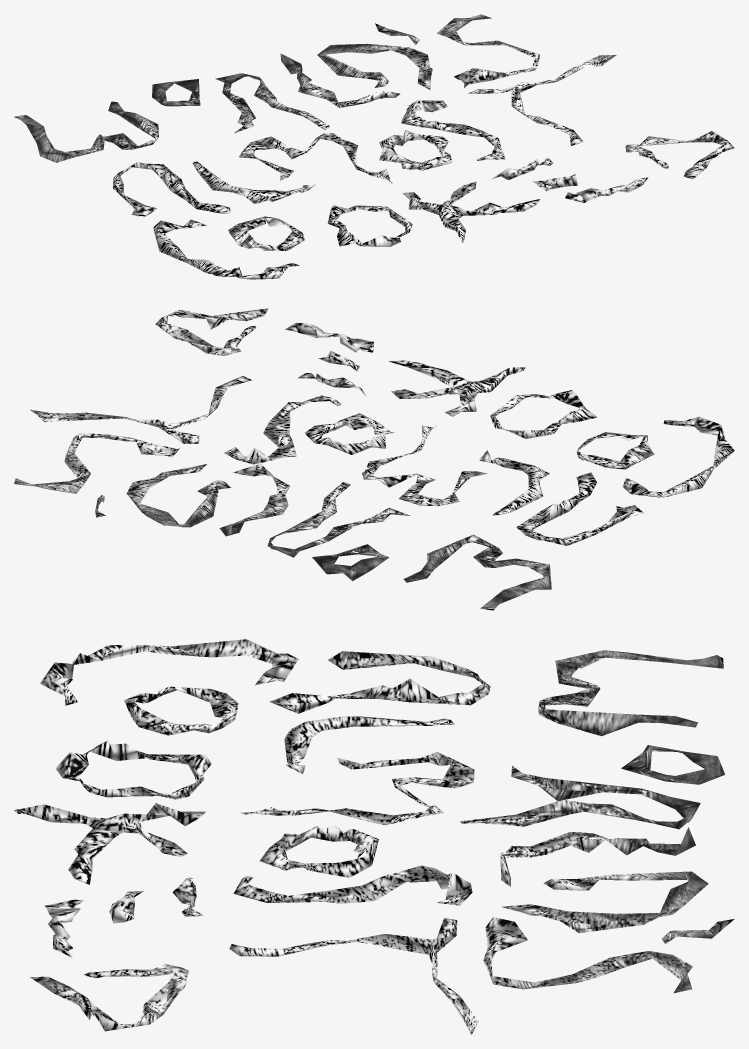
File: 09_WORLDS_ALMOST_COOKED.glb
The picture shows the model from 3 angles, top to bottom: view 1: azimuth 30°, elevation 25°; view 2: azimuth 150°, elevation 25°; view 3: azimuth 270°, elevation 25°; orthographic projection. The views are drawn at different scales.
Visible parts, largest first — view 1: 09_WORLDS_ALMOST_COOKED; view 2: 09_WORLDS_ALMOST_COOKED; view 3: 09_WORLDS_ALMOST_COOKED.
Part boxes in pixels (x1,y1,x2,y2): 09_WORLDS_ALMOST_COOKED: (14,14,734,279); 09_WORLDS_ALMOST_COOKED: (14,308,734,610); 09_WORLDS_ALMOST_COOKED: (14,639,734,1034).
Size of the model in its own units: 3.39 by 0.1356 by 2.65.
1 material, 1 textured.
